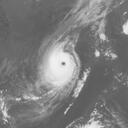cyclone: (41, 42, 80, 92)
